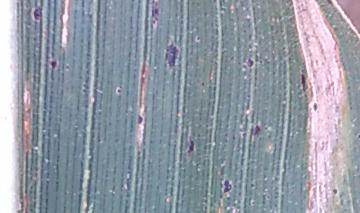tarspot: (162, 33, 184, 77), (183, 125, 198, 161), (219, 171, 234, 202), (150, 1, 162, 30), (30, 5, 45, 26), (248, 120, 262, 142), (46, 56, 61, 74), (299, 68, 308, 95), (135, 111, 148, 128), (244, 55, 258, 70), (309, 99, 321, 115), (113, 85, 125, 98), (63, 61, 73, 74), (331, 185, 340, 199), (192, 33, 203, 44), (135, 147, 144, 159), (240, 130, 248, 139), (200, 80, 207, 90), (249, 198, 256, 208), (249, 180, 255, 190), (324, 1, 336, 6), (356, 130, 360, 141)
